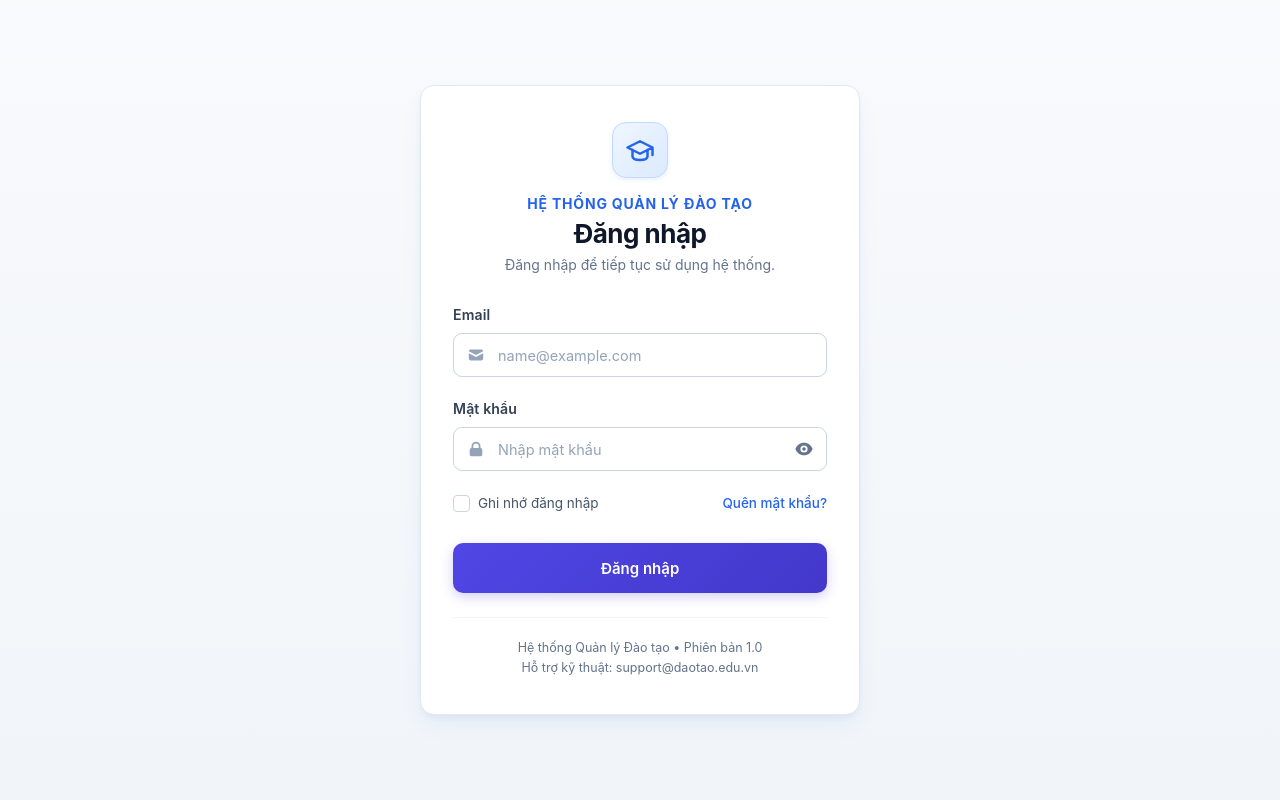
Test: SCRUM-35: Điều hướng trang chủ theo vai trò (Role Routing) › đăng nhập thành công với vai trò admin thì điều hướng tới /admin
This screenshot has width=1280, height=800.
Type "admin.super@test.vn" into the field labelled "Email" at (640, 355), box [453,333,827,377]
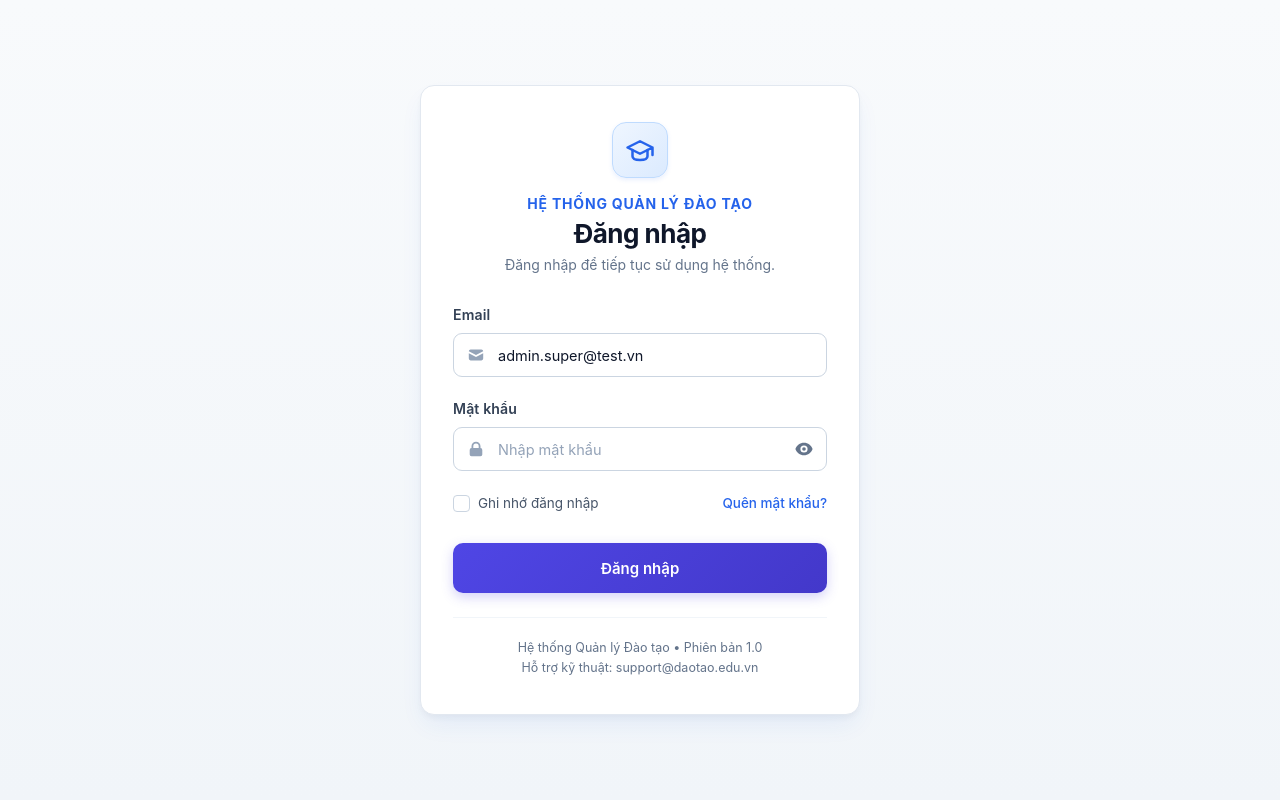
Type "Secret123!" into the password field labelled "Mật khẩu" at (640, 449), box [453,427,827,471]
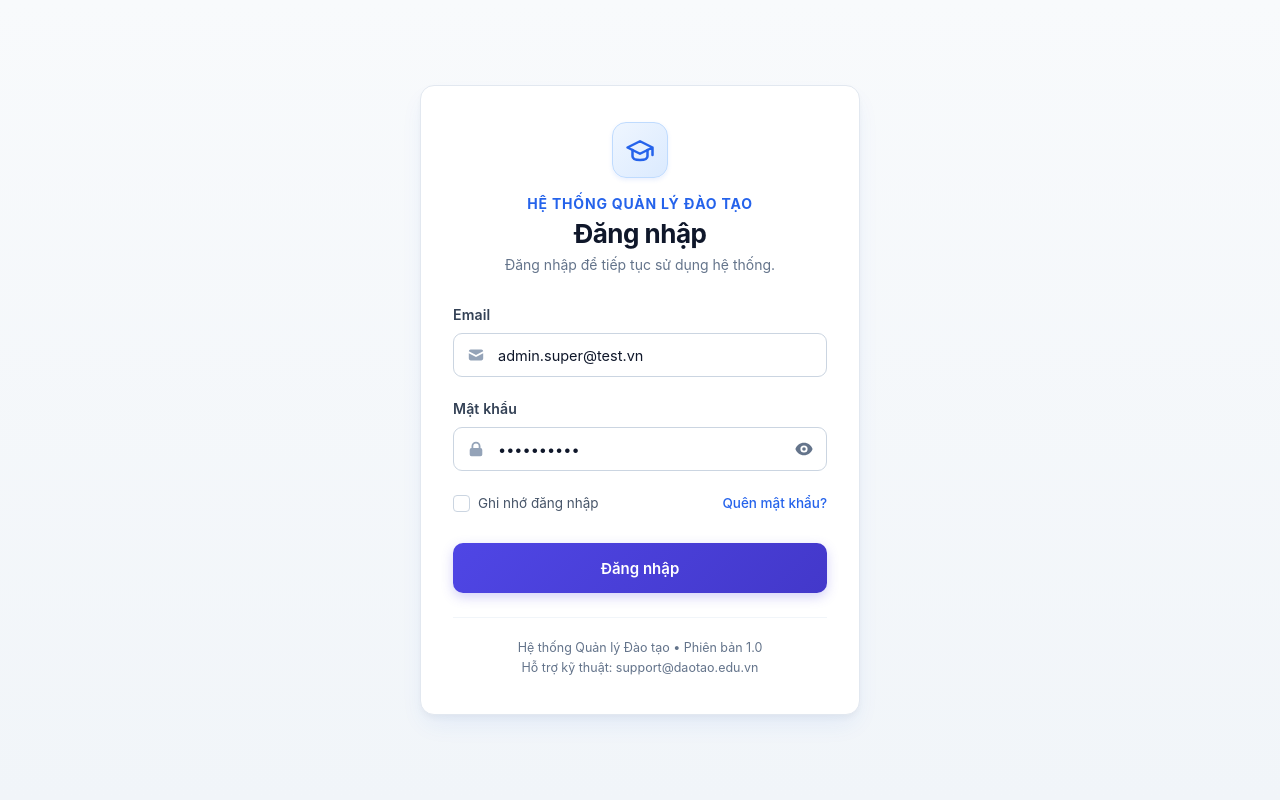
Click the button "Đăng nhập" at (640, 568), box [453,543,827,593]
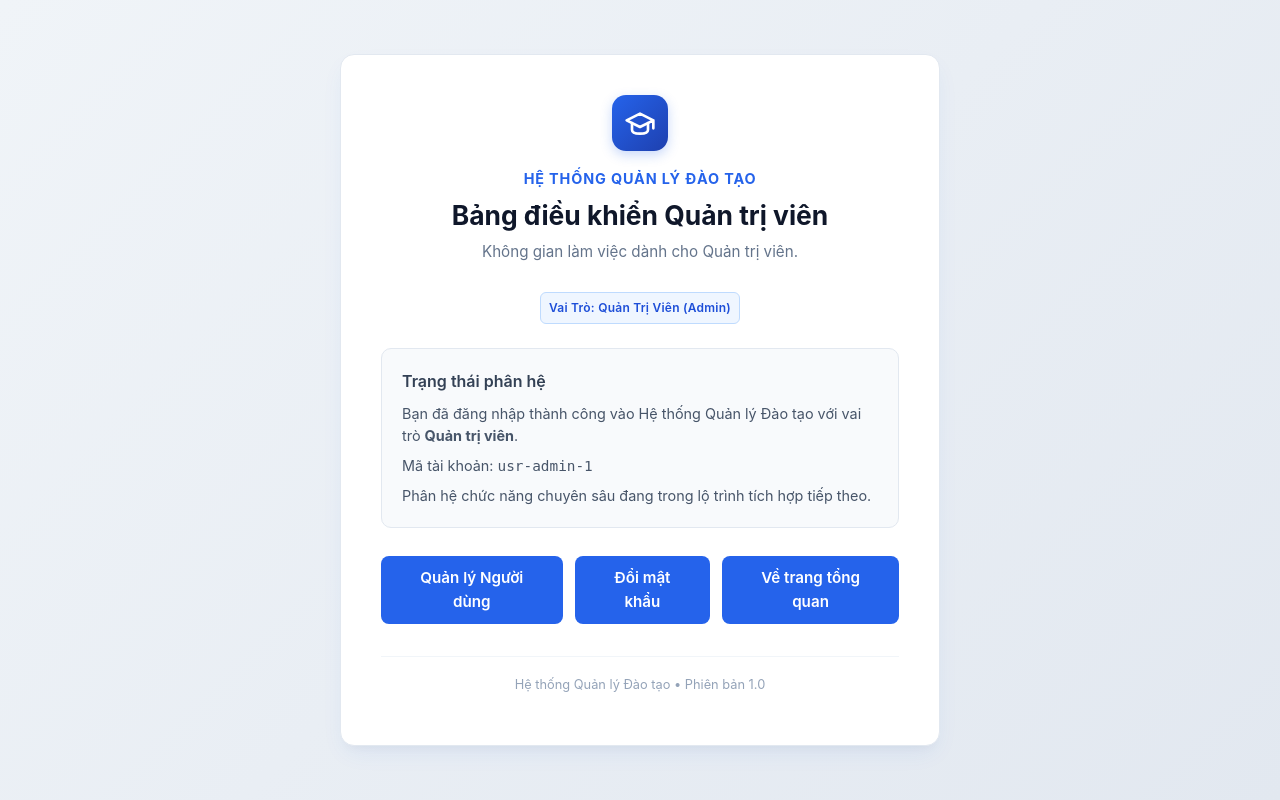
Expected: the heading "Bảng điều khiển Quản trị viên" is shown, [452,199,828,231]
